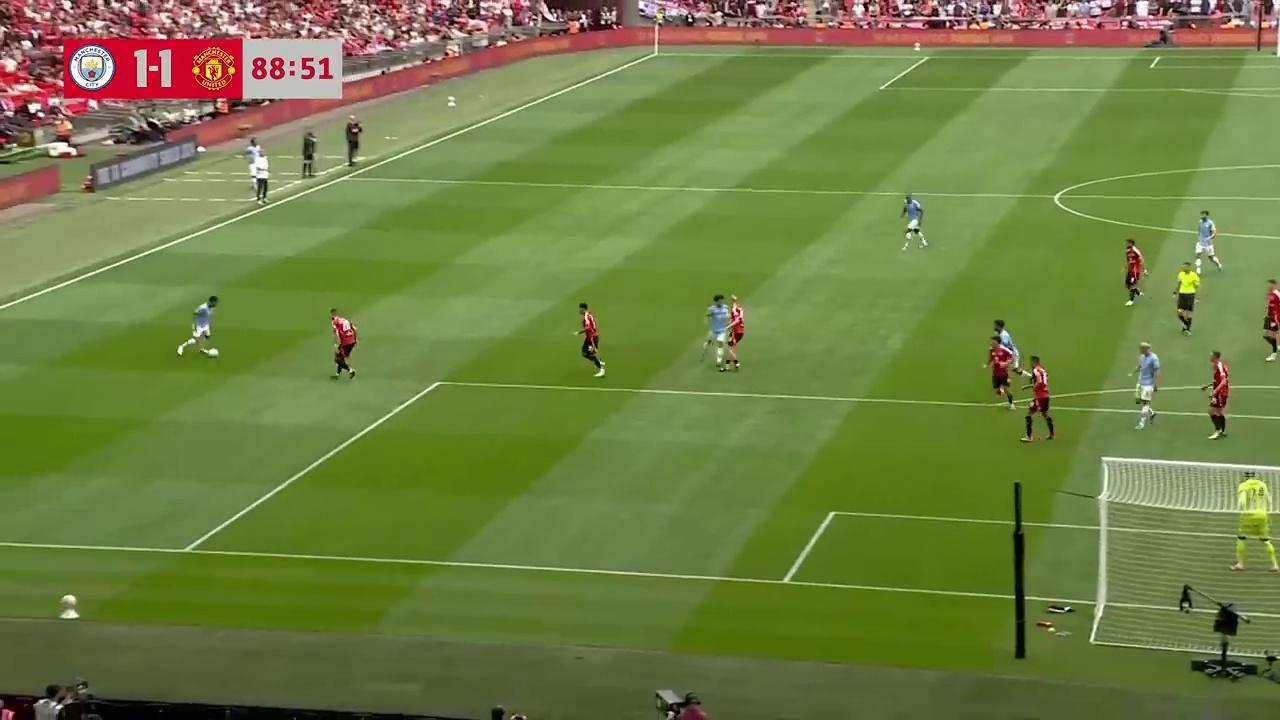ball: (206, 344, 220, 357)
player: (1236, 469, 1280, 579), (982, 321, 1021, 408), (1020, 354, 1056, 443), (1129, 341, 1162, 429), (176, 295, 219, 360), (1202, 349, 1231, 439), (574, 302, 605, 377), (701, 293, 730, 369), (329, 310, 358, 381), (1195, 209, 1223, 272), (723, 294, 745, 372), (899, 192, 928, 251), (1123, 238, 1147, 305), (1261, 278, 1279, 361)
referee: (1172, 260, 1201, 336)
